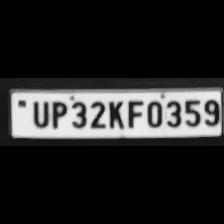0: (144, 98, 164, 128)
2: (88, 98, 106, 128)
3: (68, 98, 86, 128), (164, 97, 182, 127)
5: (182, 96, 200, 128)
9: (201, 96, 221, 126)
F: (124, 98, 142, 128)
K: (104, 98, 124, 130)
P: (47, 98, 66, 128)
U: (28, 98, 50, 128)
